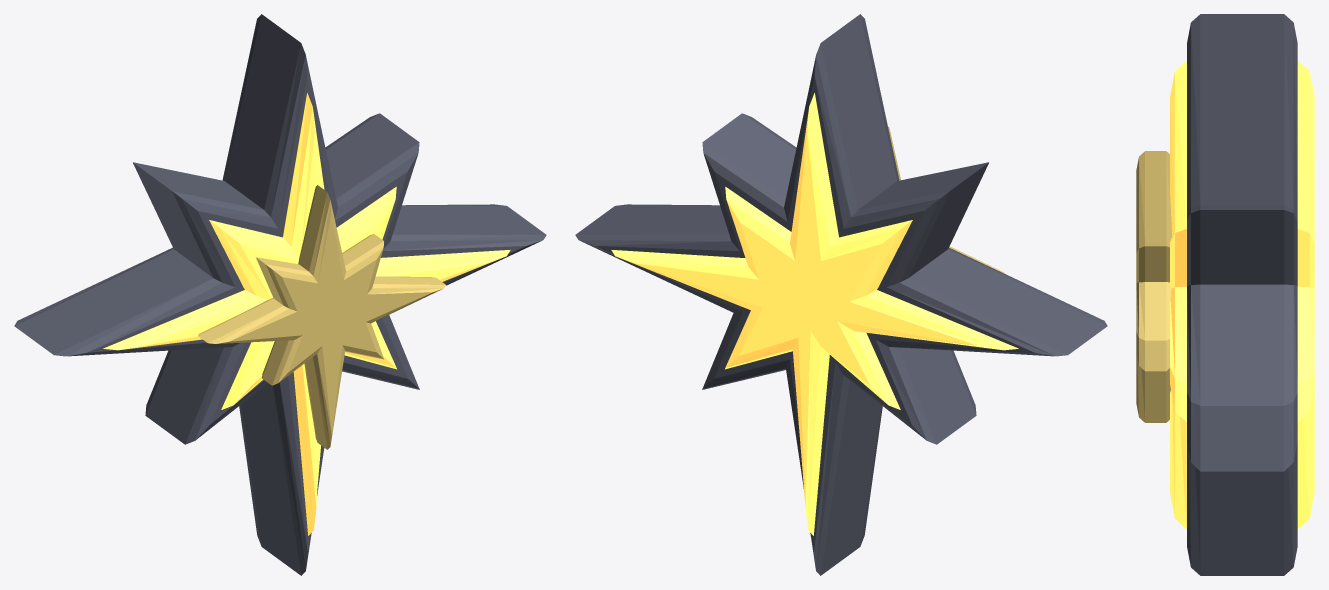
Rendered from game-ui-icon-library-explosion-glyph-5ff2e677__19026.glb.
3 views of the same model, side by side, from view 1: azimuth 30°, elevation 25°; view 2: azimuth 150°, elevation 25°; view 3: azimuth 270°, elevation 25° (orthographic). The views are drawn at different scales.
Parts seen in each view (by area): view 1: explosion-glyph; view 2: explosion-glyph; view 3: explosion-glyph.
Boxes of the visible parts, x1,y1,x2,y2 form: explosion-glyph: (14, 14, 546, 575); explosion-glyph: (575, 14, 1107, 575); explosion-glyph: (1136, 14, 1314, 575).
Bounding box in the file's own units: 0.9098 × 0.94 × 0.2699.
